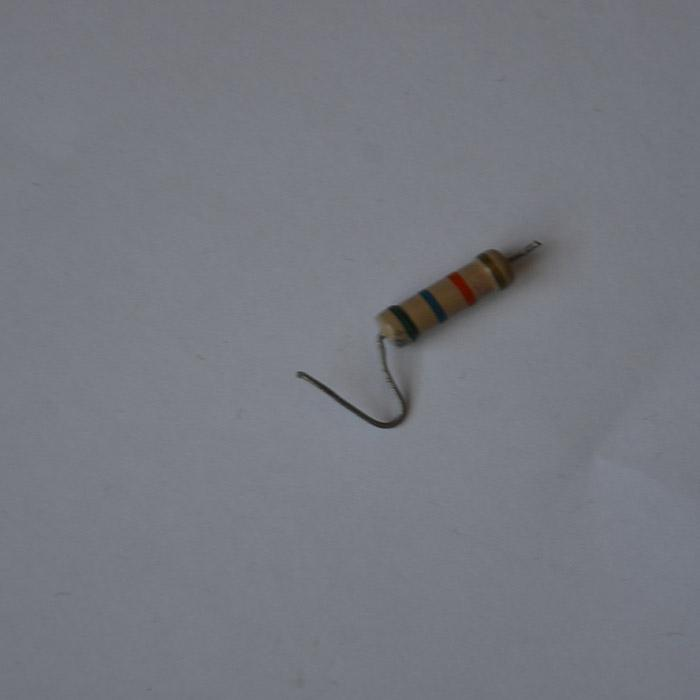resistor: (372, 246, 517, 349)
